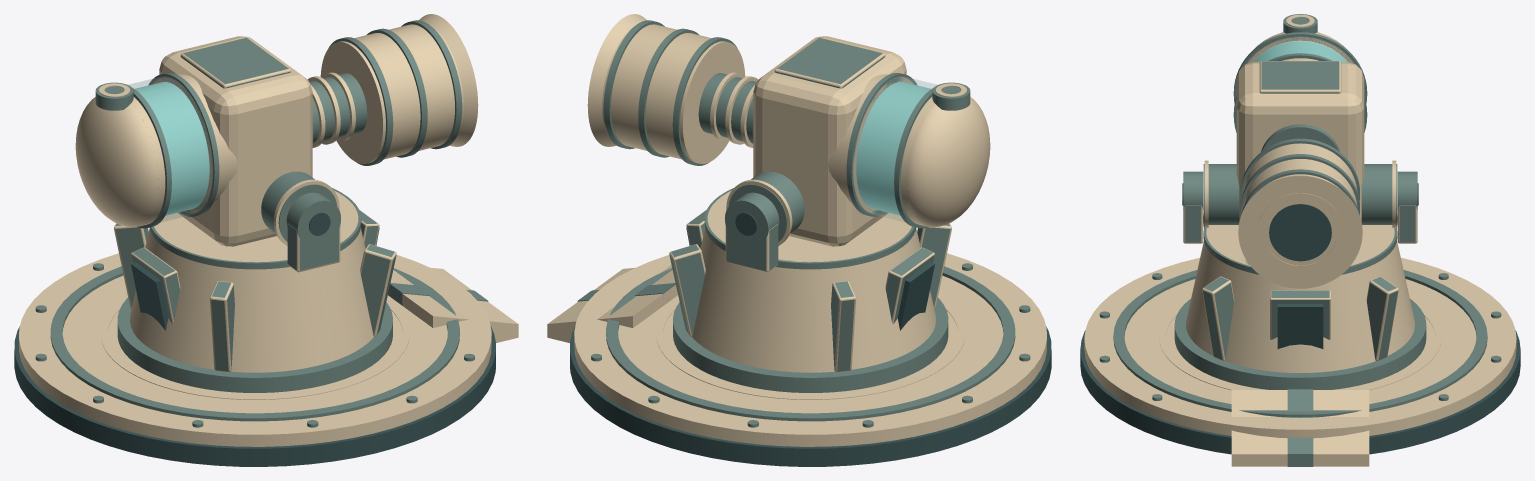
Rendered from Relay_Cannon_v4_T2.glb.
3 renders of one model, left to right at view 1: azimuth 30°, elevation 25°; view 2: azimuth 150°, elevation 25°; view 3: azimuth 270°, elevation 25°, orthographic. The views are drawn at different scales.
Parts seen in each view (by area): view 1: Relay_Cannon_v4, Head; view 2: Relay_Cannon_v4, Head; view 3: Relay_Cannon_v4, Head.
Boxes of the visible parts, bbox=[...] form: Relay_Cannon_v4: bbox=[14, 188, 518, 466]; Head: bbox=[75, 14, 478, 246]; Relay_Cannon_v4: bbox=[547, 188, 1051, 466]; Head: bbox=[587, 14, 990, 246]; Relay_Cannon_v4: bbox=[1080, 171, 1520, 466]; Head: bbox=[1203, 14, 1397, 288].
Bounding box in the file's own units: 9 × 6.12 × 8.64.
